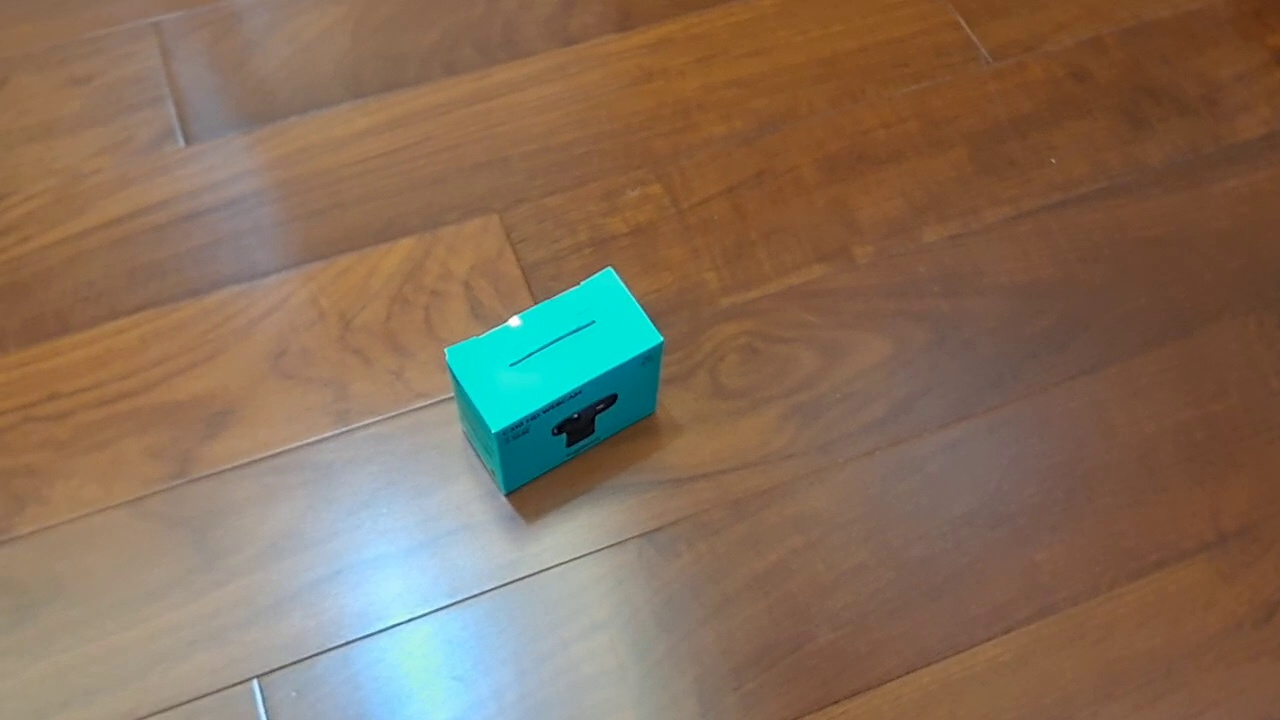webcam: (442, 264, 665, 497)
